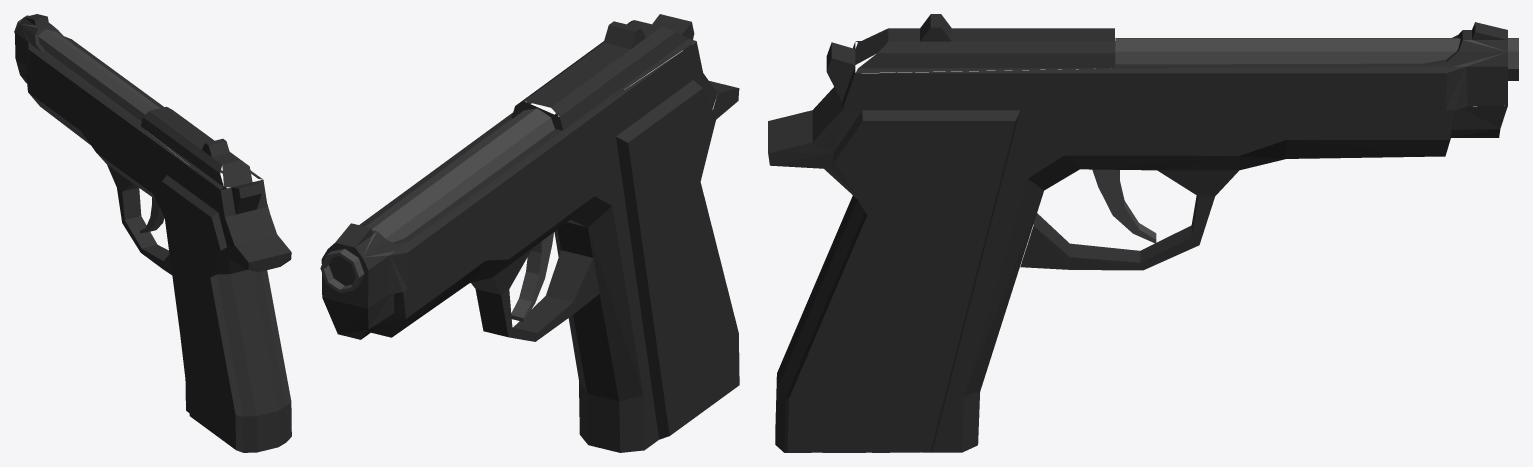
The picture shows the model from 3 angles, left to right: view 1: azimuth 30°, elevation 25°; view 2: azimuth 150°, elevation 25°; view 3: azimuth 270°, elevation 25°; orthographic projection. The views are drawn at different scales.
Parts seen in each view (by area): view 1: 9mm; view 2: 9mm; view 3: 9mm.
Boxes of the visible parts, x1,y1,x2,y2 form: 9mm: (14,14,291,452); 9mm: (320,14,739,452); 9mm: (768,14,1518,452).
Size of the model in its own units: 0.0275 by 0.1273 by 0.2079.
Materials: 1 (1 with a texture image).
